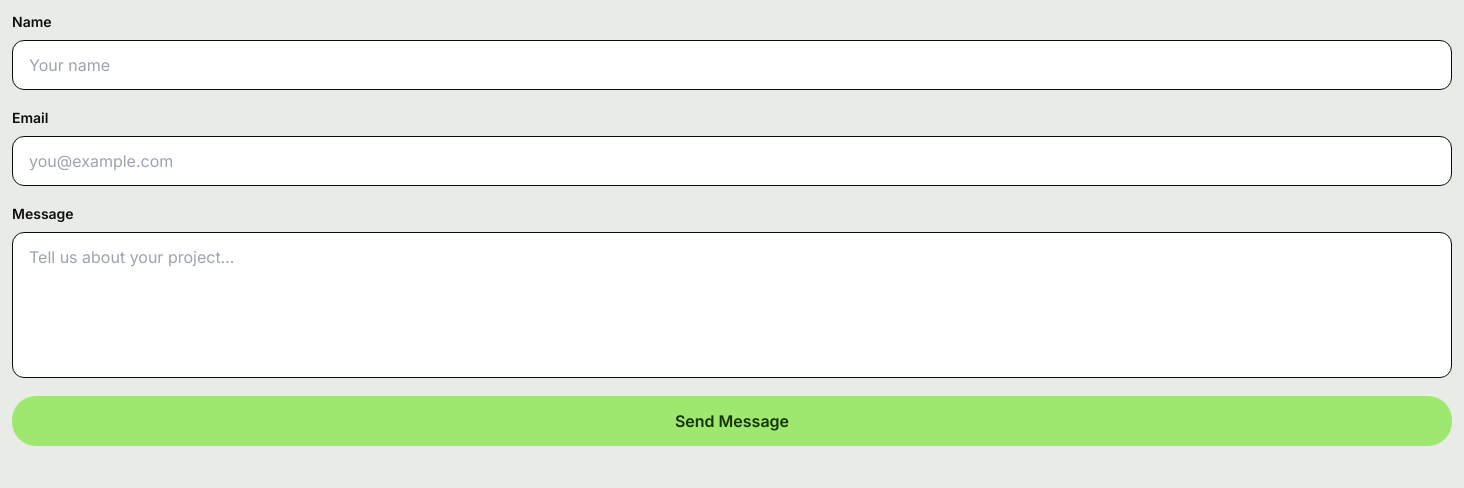
Test: ContactForm › shows an email error for an invalid email
The width and height of the screenshot is (1464, 488).
Type "Alice" into the field labelled "Name" at (732, 65), box [12, 40, 1452, 90]
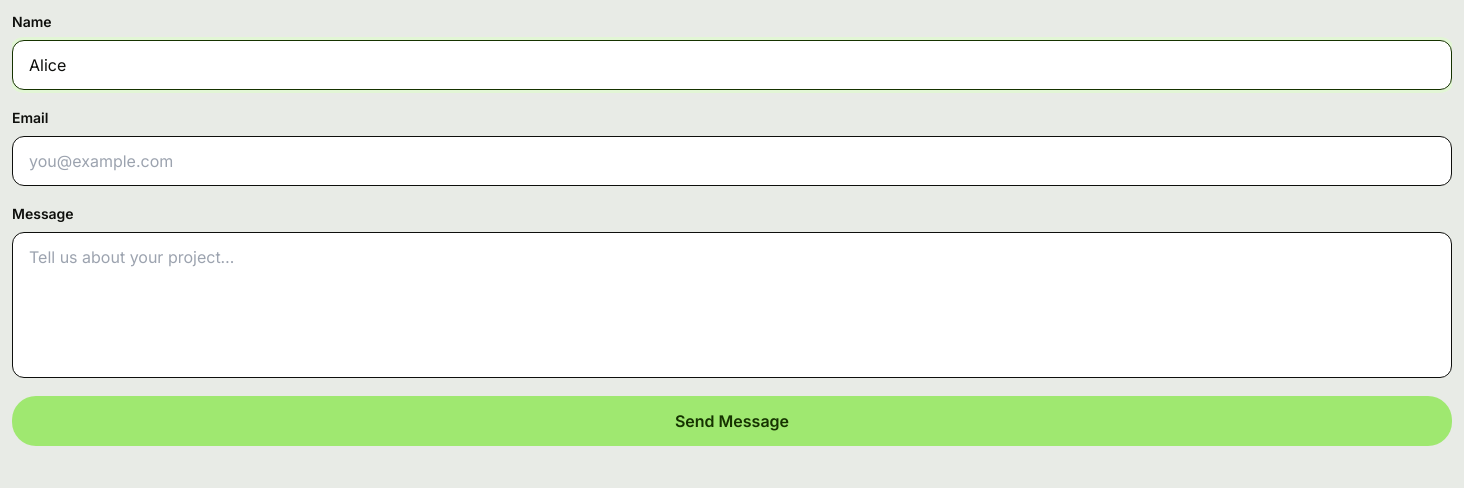
Type "not-an-email" into the field labelled "Email" at (732, 161), box [12, 136, 1452, 186]
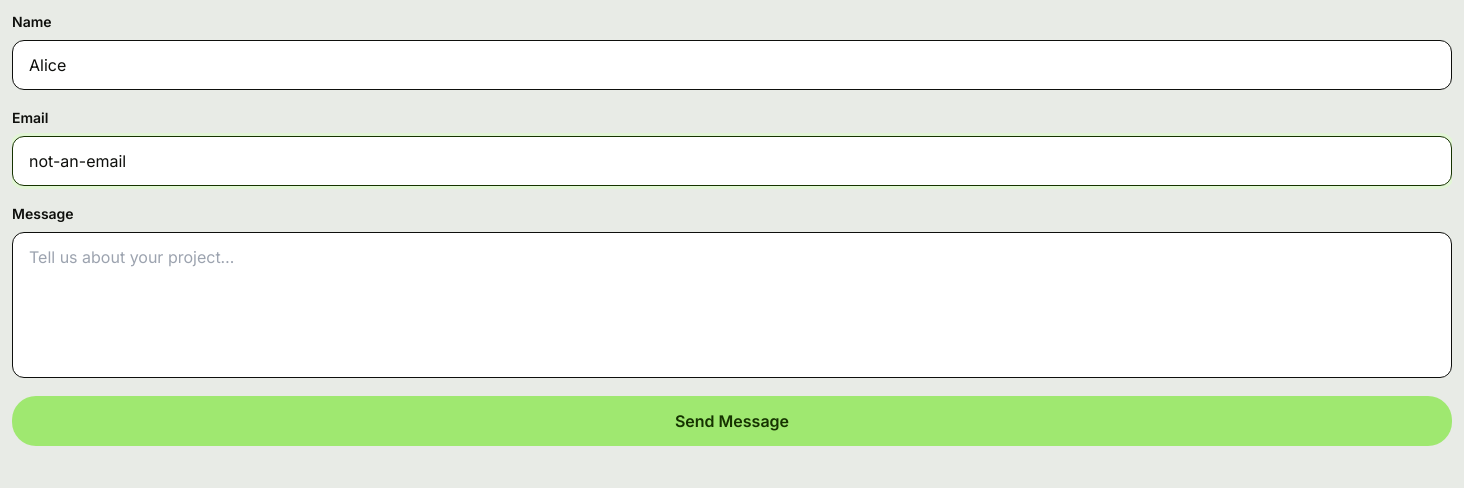
Type "Hello there" into the text box labelled "Message" at (732, 305), box [12, 232, 1452, 378]
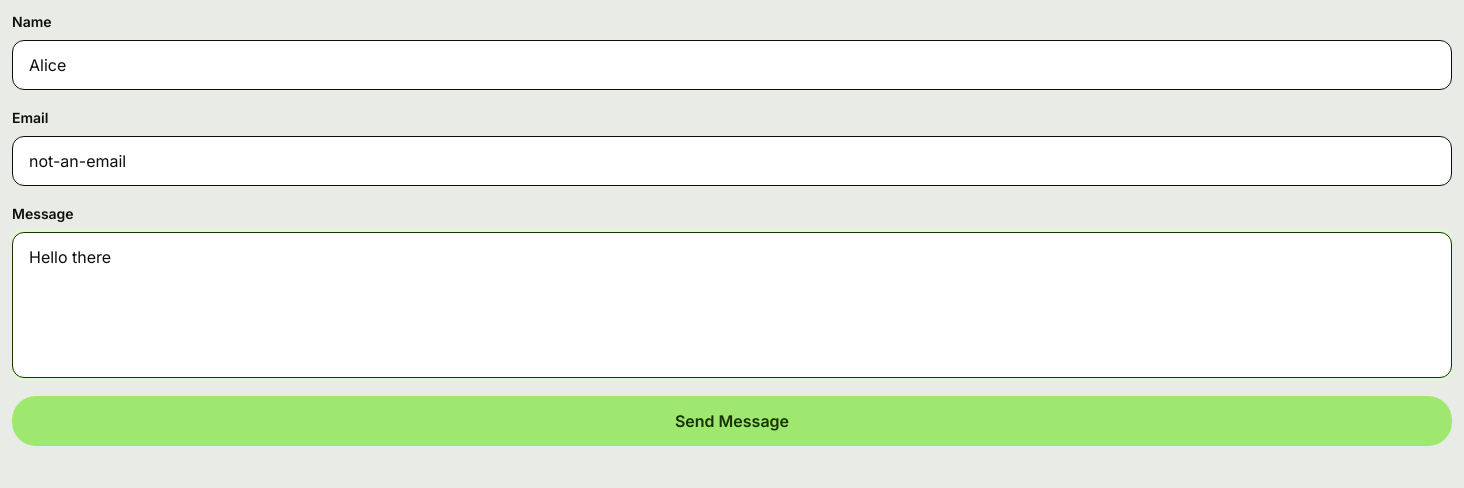
Click the button "Send Message" at (732, 421), box [12, 396, 1452, 446]
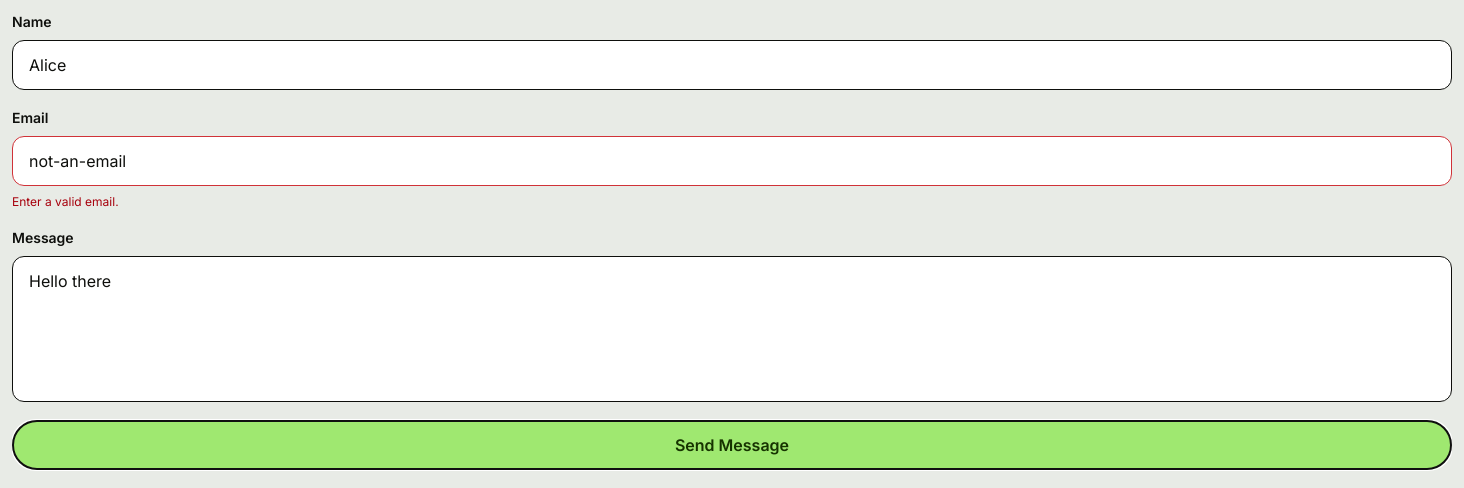
Result: the text "Enter a valid email." is shown at [12, 194, 119, 209]
